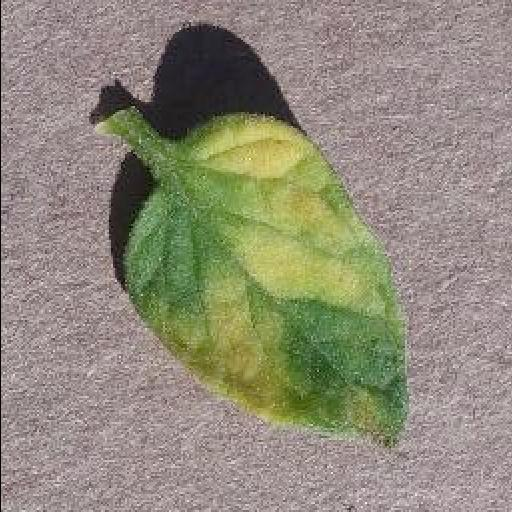disease_tomato: (118, 112, 414, 440)
